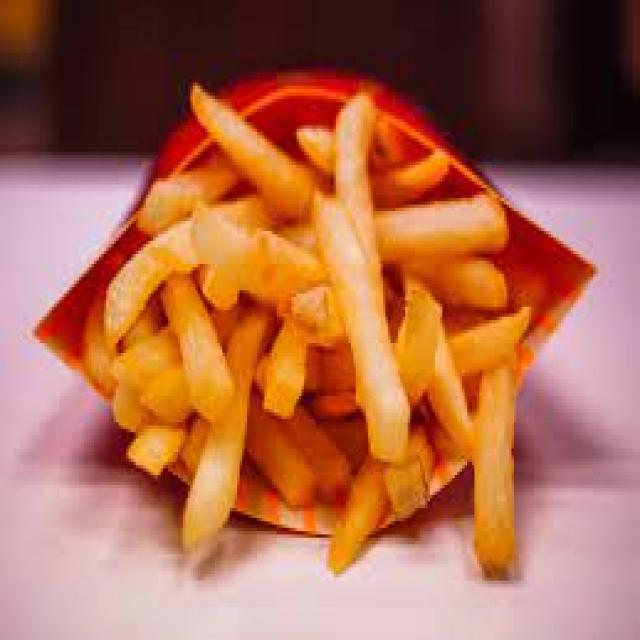Fries: (130, 79, 550, 549)
